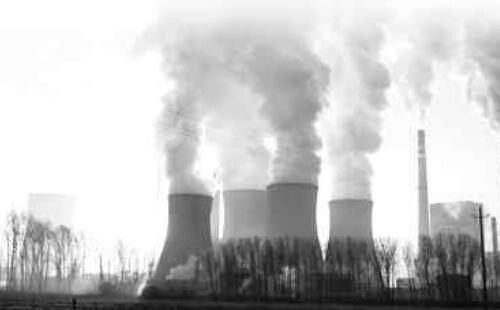dust: (251, 54, 327, 194), (324, 65, 390, 205), (150, 68, 214, 206), (206, 74, 268, 197), (394, 36, 450, 138)
